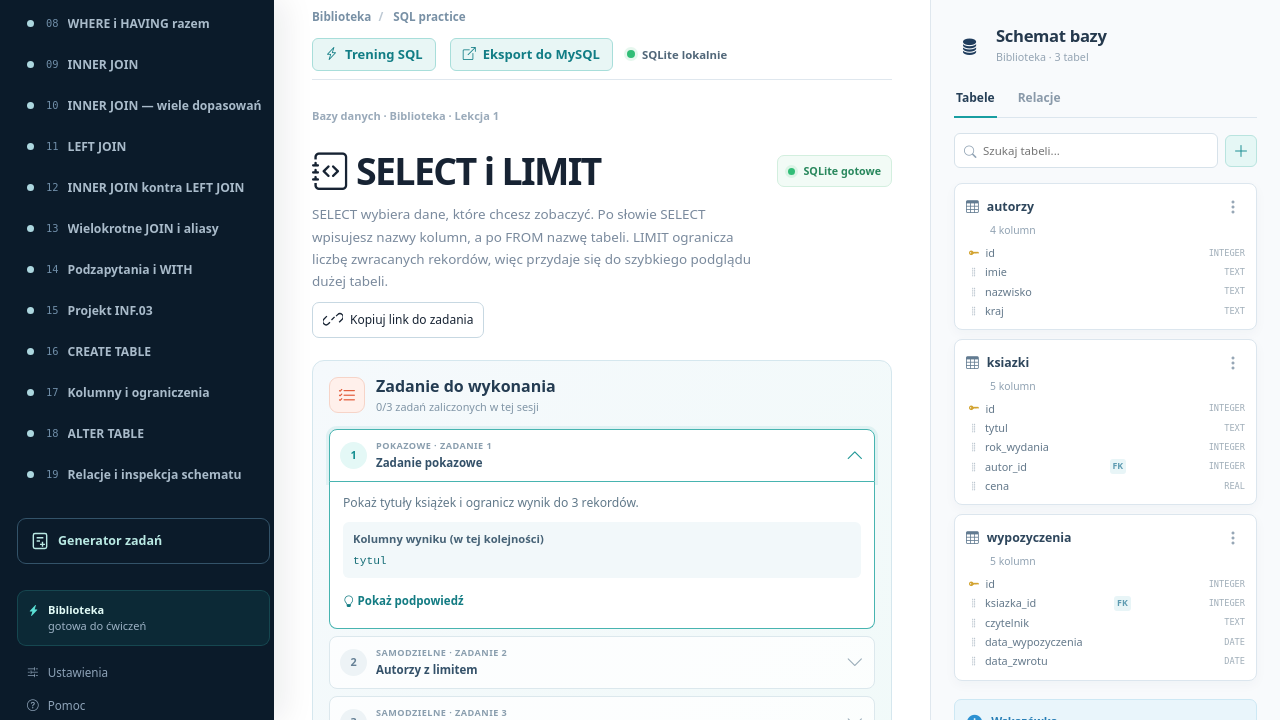
Test: opens the settings and help panels from the sidebar
The width and height of the screenshot is (1280, 720).
(page scrolled)
Click the button "Ustawienia" at (144, 673), box [17, 658, 270, 688]
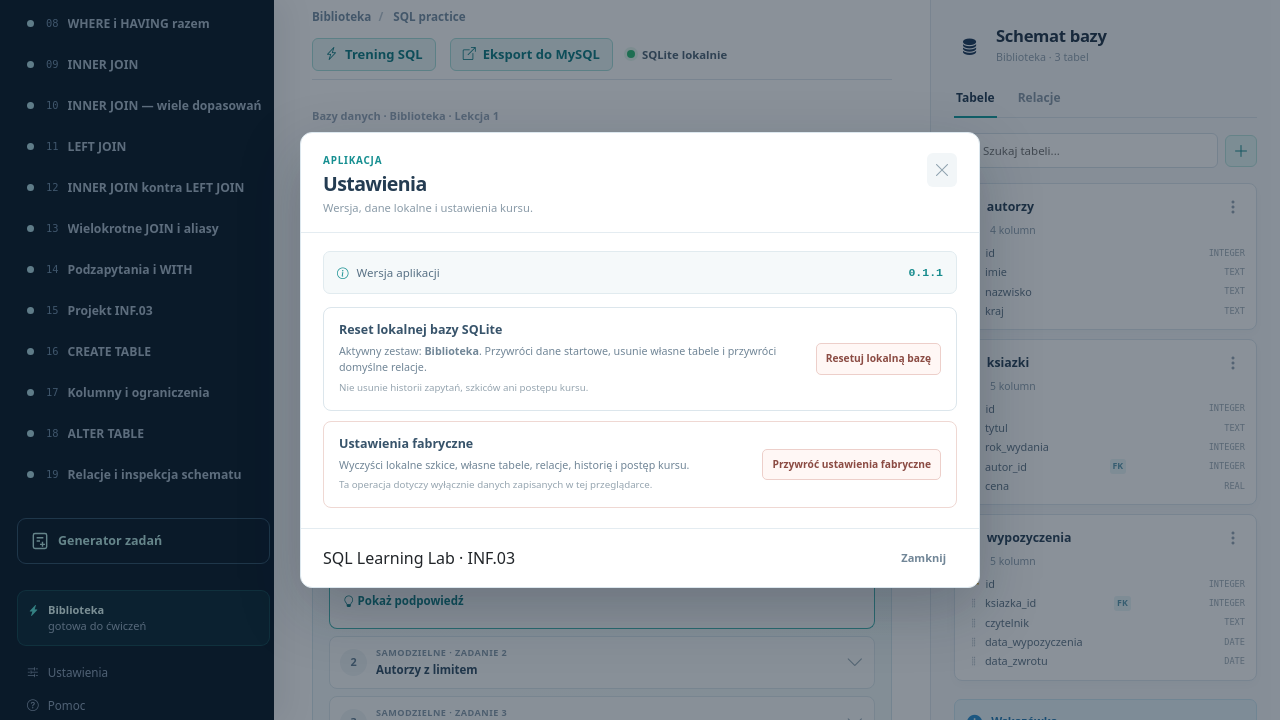
Check: the dialog "Ustawienia" is shown, box [300, 132, 980, 588]
Click the button named "Zamknij ustawienia" at (942, 170), box [927, 153, 957, 187]
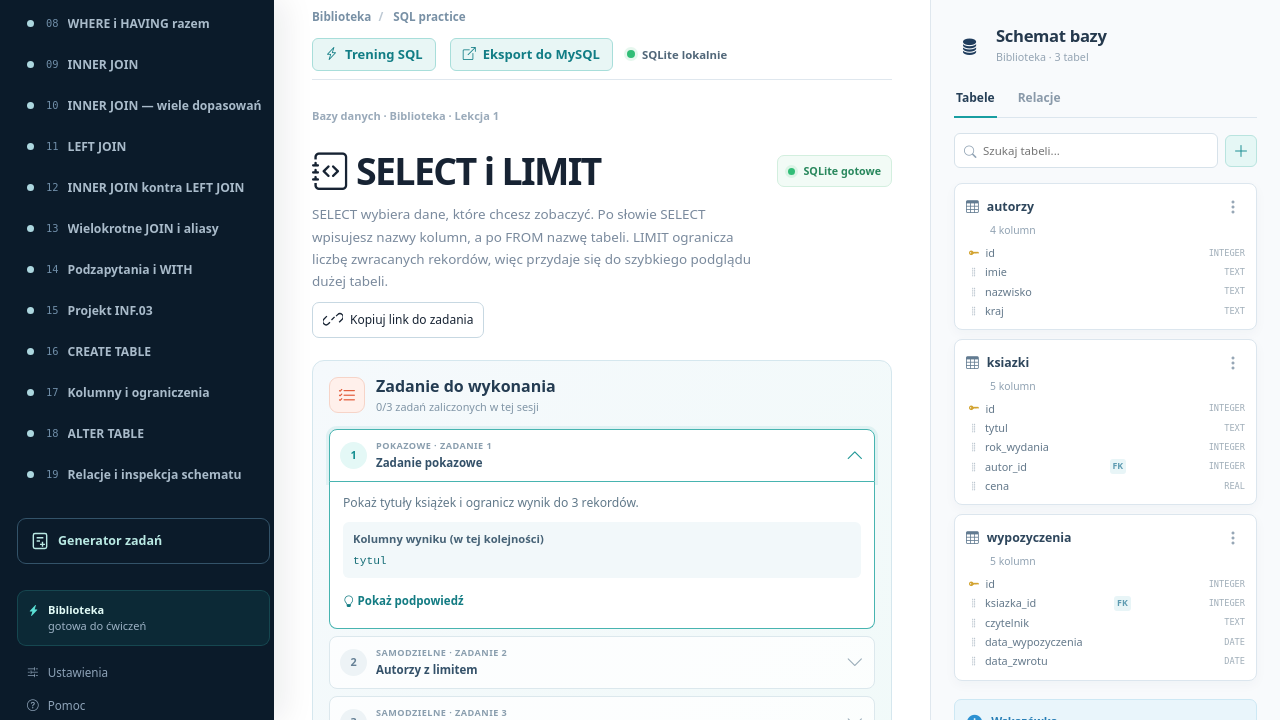
Click the button "Pomoc" at (144, 705), box [17, 690, 270, 719]
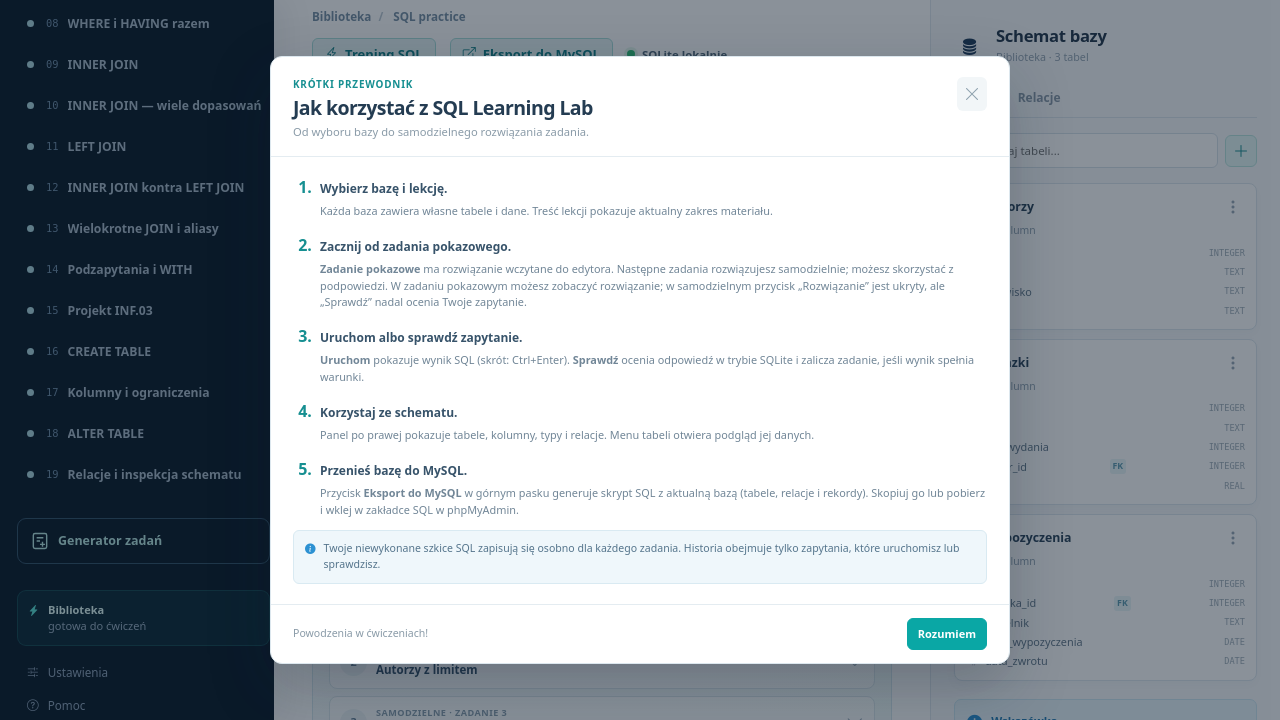
Check: the dialog "Jak korzystać z SQL Learning Lab" is shown, box [270, 56, 1010, 664]
